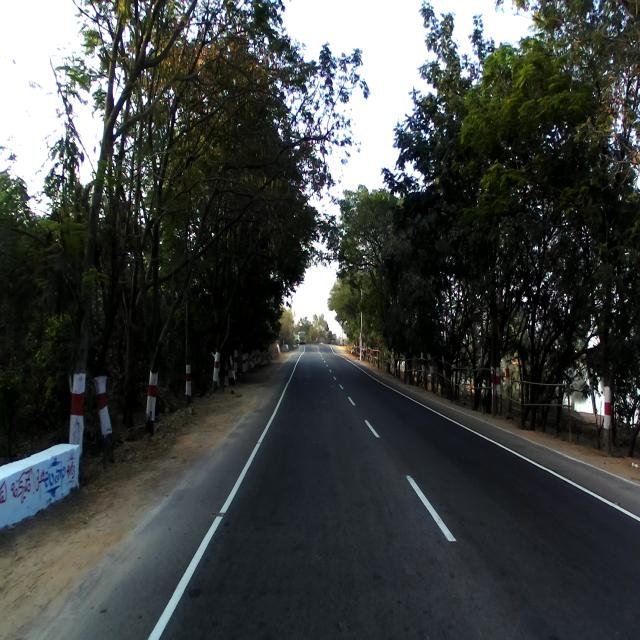tree ahead at: (142, 265, 170, 440), (74, 283, 97, 473)
